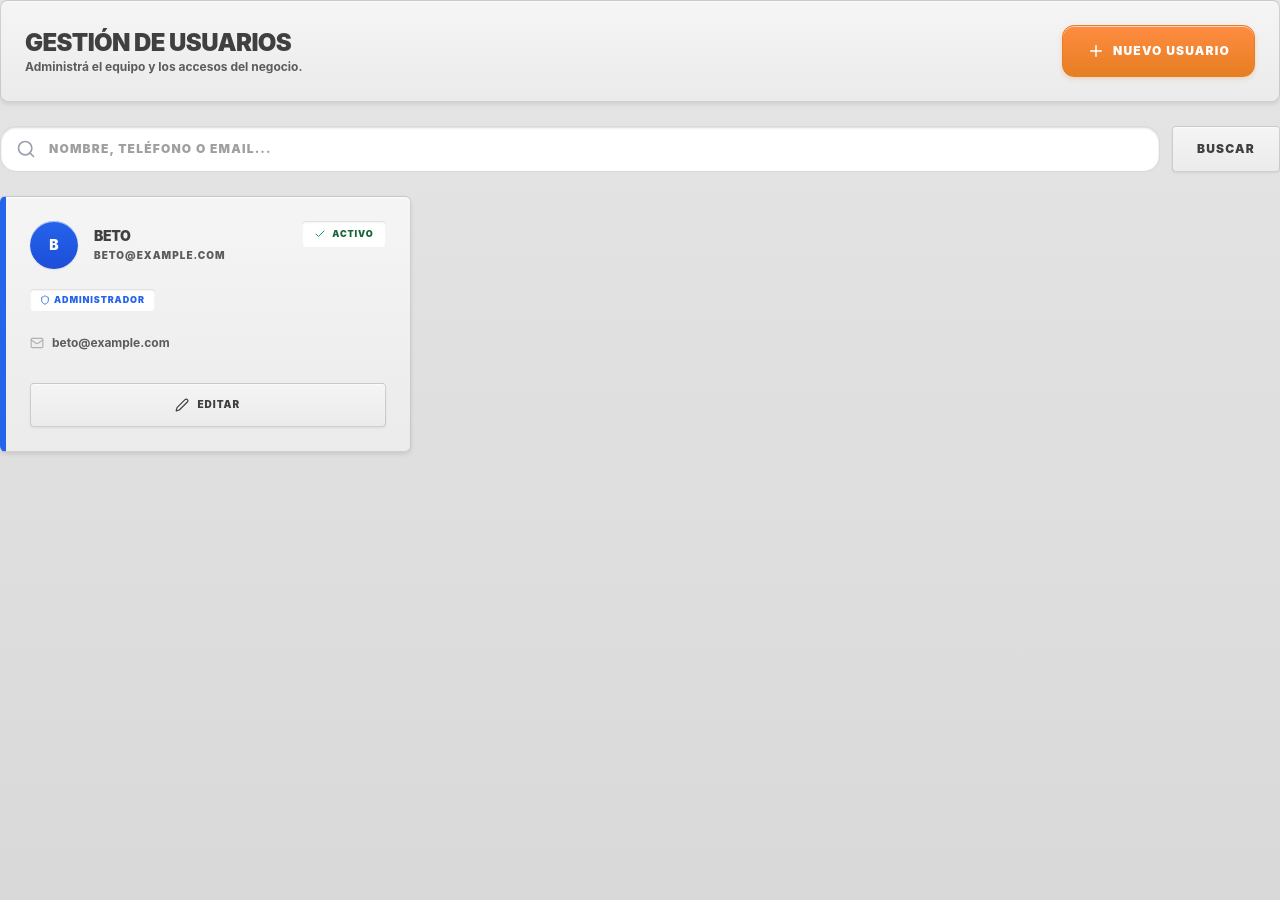
Test: UserManagementContainer › editar a otro admin muestra su rol pero no deja cambiar rol, clave ni darlo de baja
Step 1. Click the button "Editar" → (208, 404), box [30, 382, 386, 426]
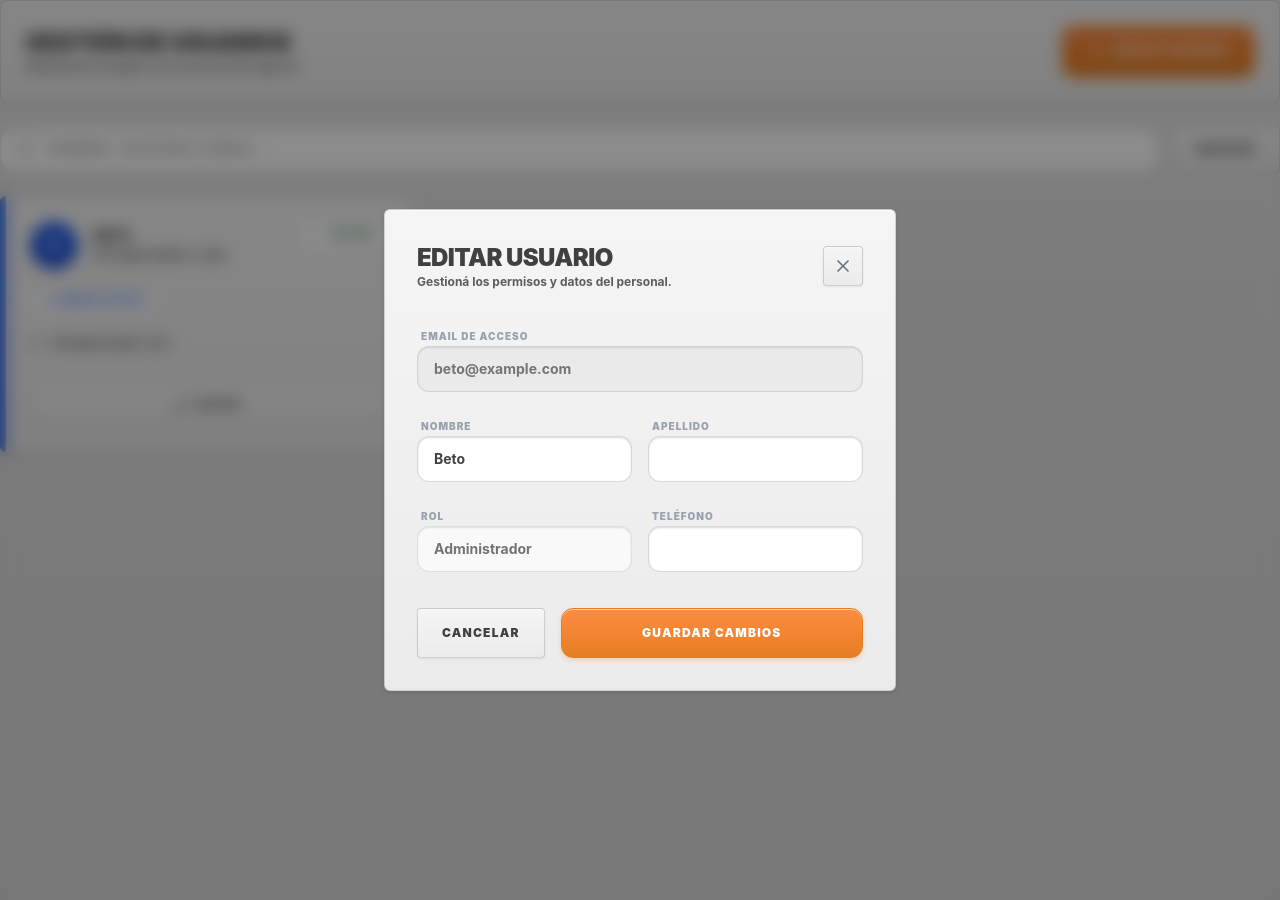
expect the dropdown is disabled: met, box [417, 526, 632, 572]
